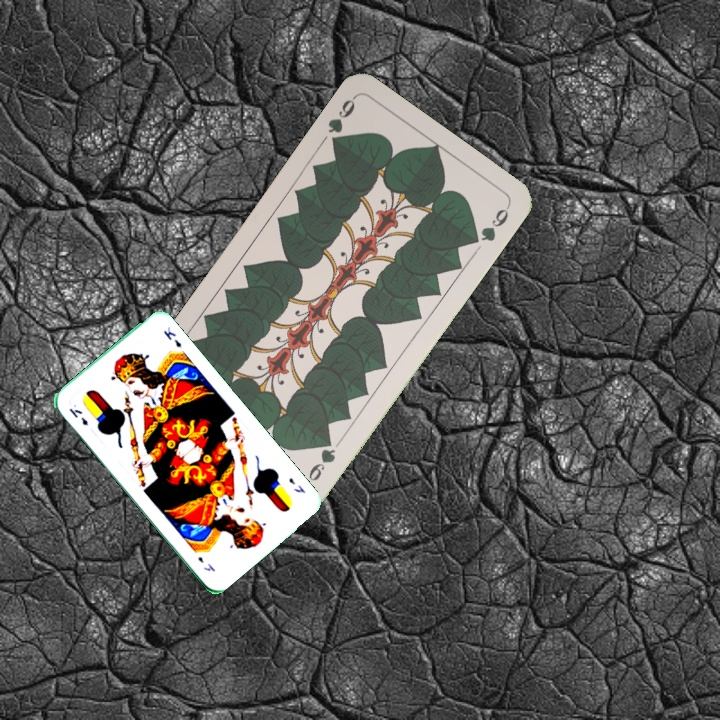EK: (65, 404, 91, 428), (285, 473, 308, 496)
G9: (323, 93, 358, 151), (303, 435, 339, 489)
